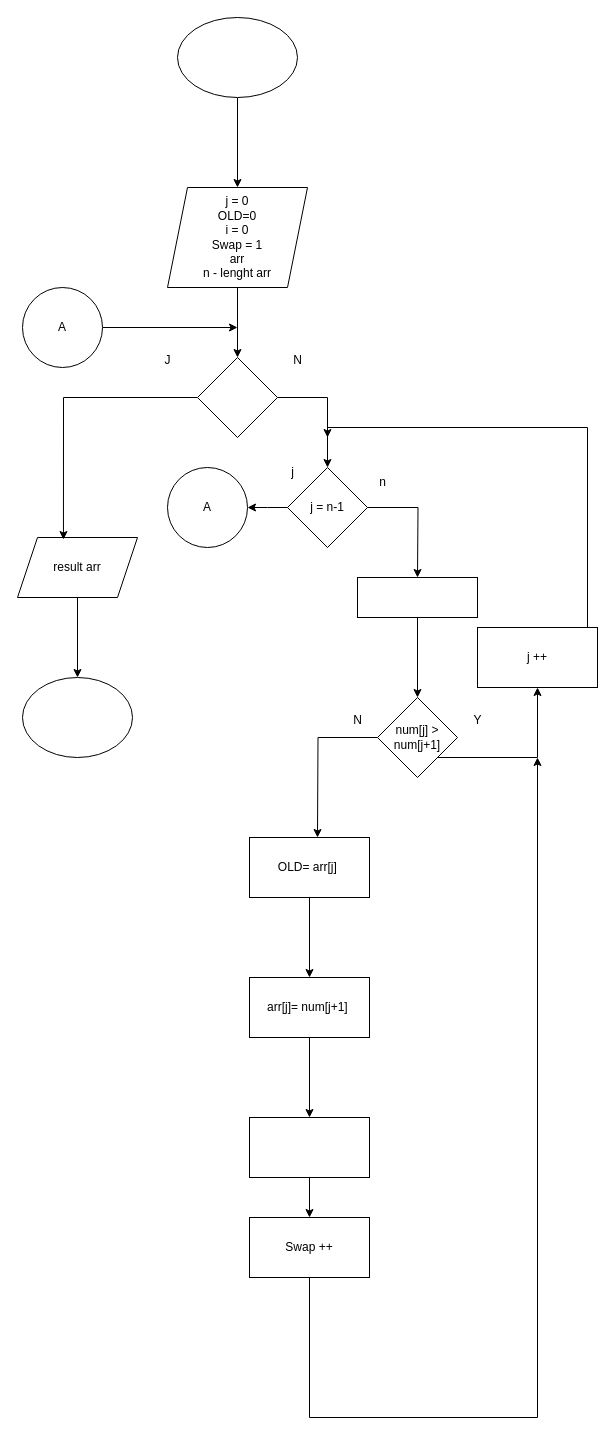
The diagram is 615 pixels wide and 1443 high, and some of its shapes have lost their labels. The shapes that lost their labels are listed below. From the top down, each one's centre as x and y in pixels, then its label:
At (237,57): "Start".
At (237,397): "Swap == 0?".
At (417,597): "Swap = 0".
At (77,717): "End".
At (309,1147): "num[j+1] = OLD".
